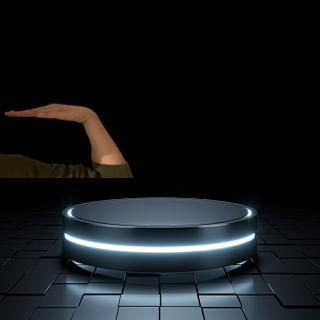WAIT: (1, 98, 94, 127)
